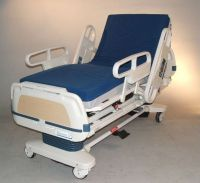trolley_bed: (9, 13, 178, 180)
